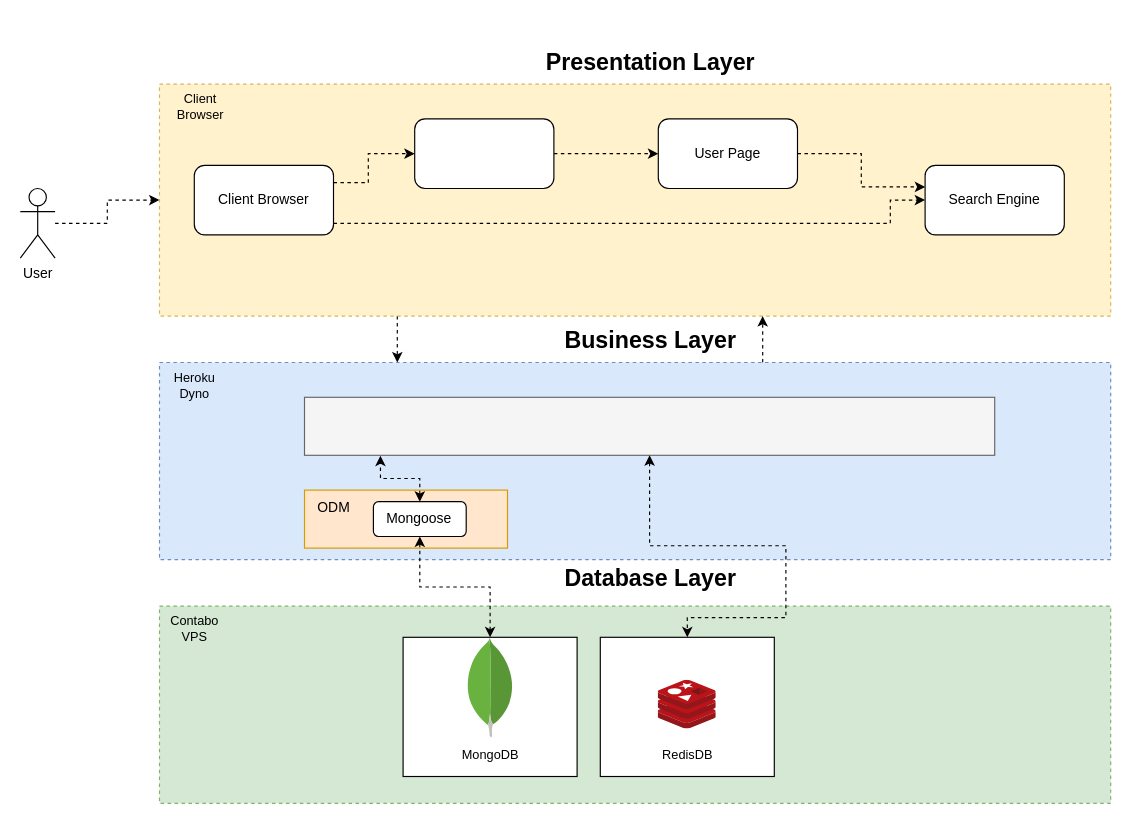
This 1131x824 diagram has some shape labels left out. Here are the shapes that lost their labels. From the top down, the box of each, then its label:
(414, 118, 554, 188): Login
(303, 396, 995, 455): Business Login
